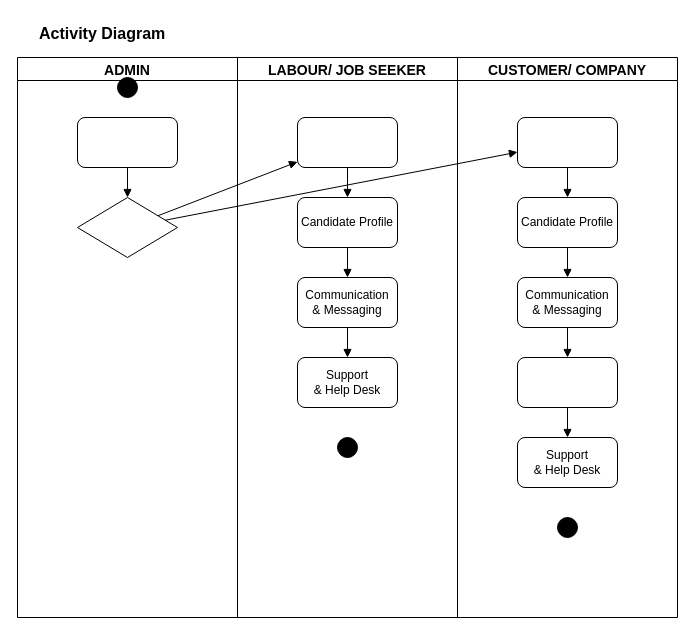
This 695x635 diagram has some shape labels left out. Each missing label, with the centre of its shape:
"Feedback & Reviews" belongs at point 567,382.
"Job Listing" belongs at point 567,142.
"Job Searching" belongs at point 347,142.
"Registration/ Login" belongs at point 127,142.
"User Role" belongs at point 127,227.
